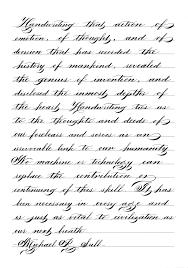text: (15, 16, 175, 34), (10, 169, 157, 187), (9, 153, 163, 170), (11, 141, 170, 157), (11, 197, 170, 213), (10, 100, 170, 115), (12, 87, 169, 102), (12, 211, 177, 225), (10, 32, 174, 46), (11, 183, 174, 197), (12, 59, 162, 74), (11, 73, 172, 86), (11, 114, 172, 127), (9, 128, 162, 141), (16, 237, 104, 256), (12, 47, 160, 57), (11, 225, 86, 237)
